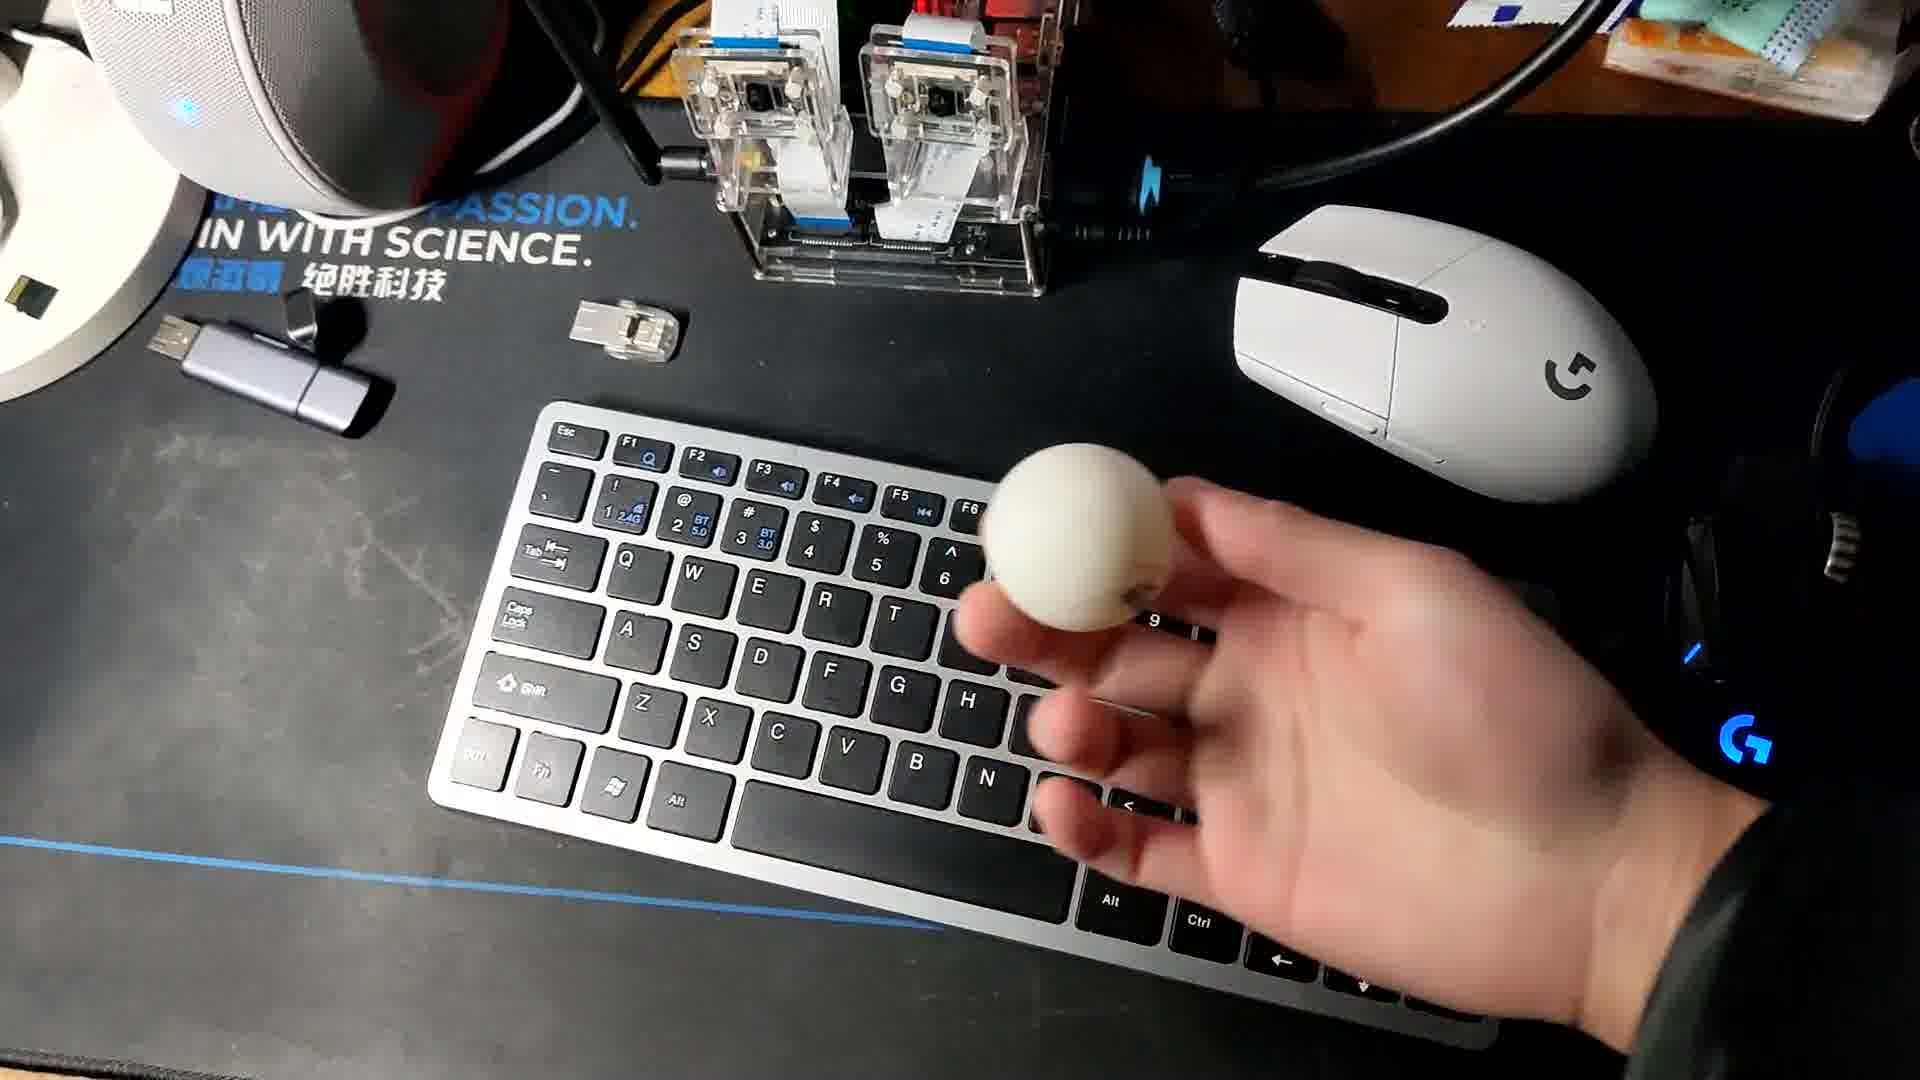Ball: (985, 440, 1167, 629)
